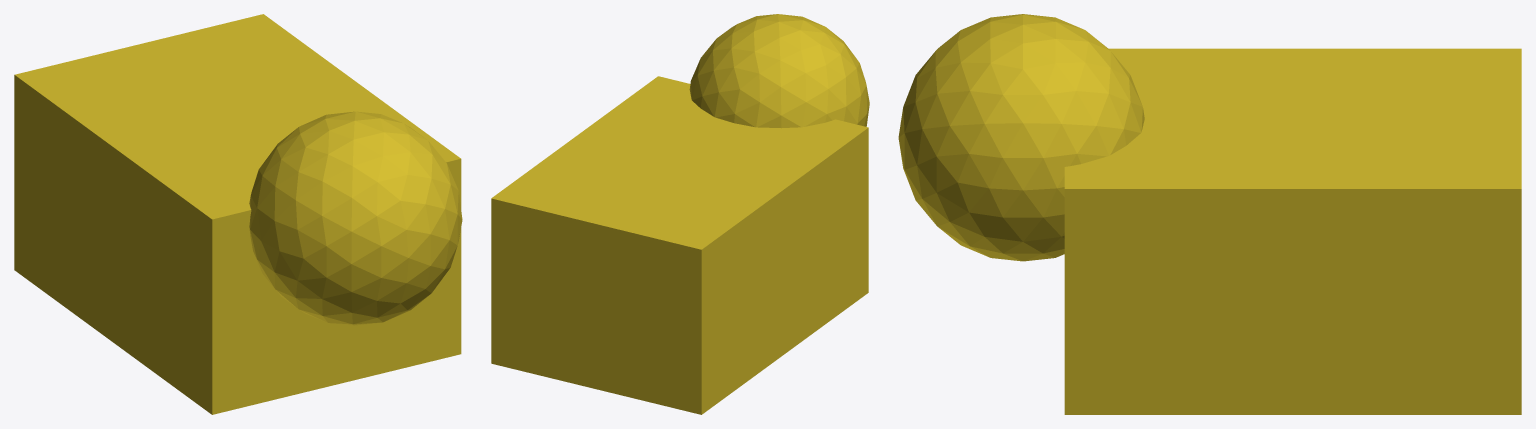
Rendered from creature_10.glb.
3 renders of one model, left to right at view 1: azimuth 30°, elevation 25°; view 2: azimuth 150°, elevation 25°; view 3: azimuth 270°, elevation 25°, orthographic. The views are drawn at different scales.
Parts seen in each view (by area): view 1: geometry_0; view 2: geometry_0; view 3: geometry_0.
Boxes of the visible parts, left/top/right/bottom form: geometry_0: left=14, top=14, right=462, bottom=414; geometry_0: left=491, top=14, right=869, bottom=414; geometry_0: left=898, top=14, right=1521, bottom=414.
Size of the model in its own units: 1.6 by 1.7 by 3.
